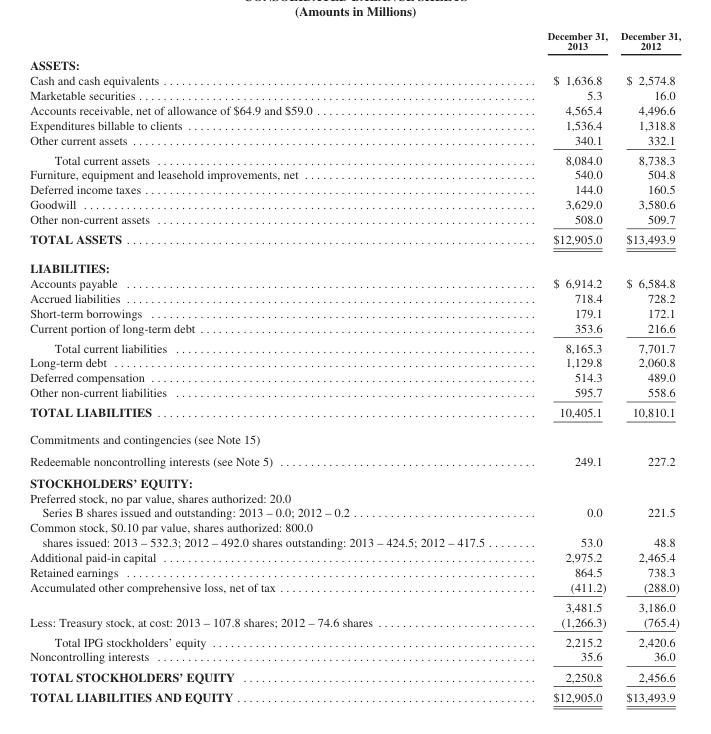table: (29, 29, 680, 703)
table column: (29, 29, 515, 703), (515, 29, 613, 703), (613, 29, 680, 703)
table column header: (29, 29, 680, 54)
table projected row header: (29, 425, 680, 449), (29, 253, 680, 275), (29, 54, 680, 72), (29, 471, 680, 489)
table row: (29, 489, 680, 519), (29, 519, 680, 549), (29, 29, 680, 54), (29, 228, 680, 253), (29, 401, 680, 425), (29, 425, 680, 449), (29, 253, 680, 275), (29, 449, 680, 471), (29, 666, 680, 686), (29, 54, 680, 72), (29, 131, 680, 149), (29, 319, 680, 337), (29, 471, 680, 489), (29, 596, 680, 614), (29, 648, 680, 666), (29, 149, 680, 166), (29, 211, 680, 228), (29, 337, 680, 354), (29, 384, 680, 401), (29, 579, 680, 596), (29, 614, 680, 631), (29, 631, 680, 648), (29, 686, 680, 703), (29, 72, 680, 87), (29, 87, 680, 102), (29, 102, 680, 117), (29, 166, 680, 181), (29, 181, 680, 196), (29, 196, 680, 211), (29, 275, 680, 290), (29, 290, 680, 305), (29, 354, 680, 369), (29, 369, 680, 384), (29, 549, 680, 564), (29, 564, 680, 579), (29, 117, 680, 131), (29, 305, 680, 319)
